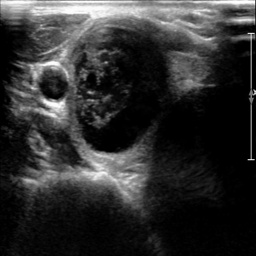mass: (73, 25, 171, 152)
